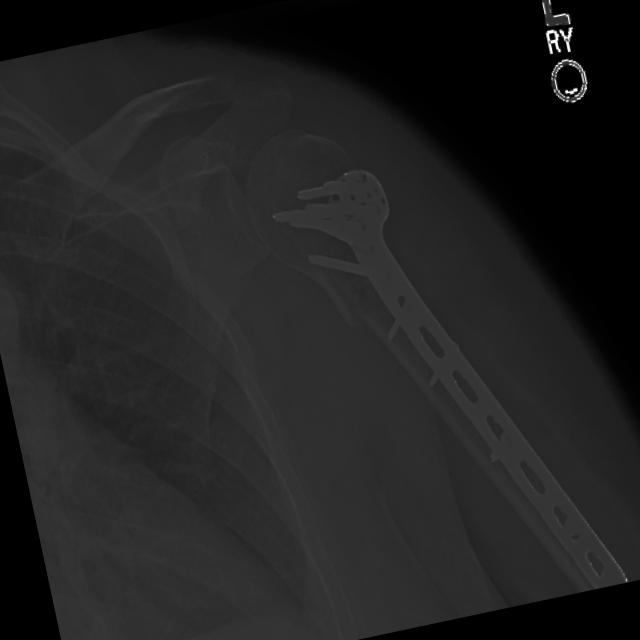shoulder fracture: (306, 254, 401, 361)
